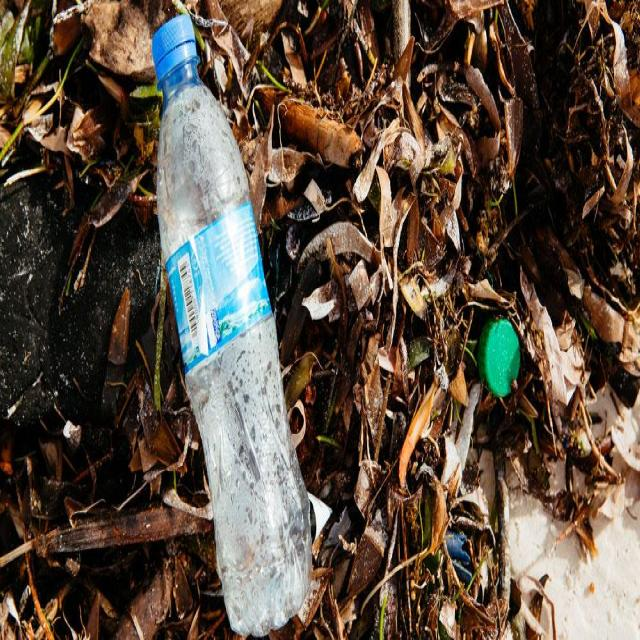bottle: (157, 35, 307, 640)
